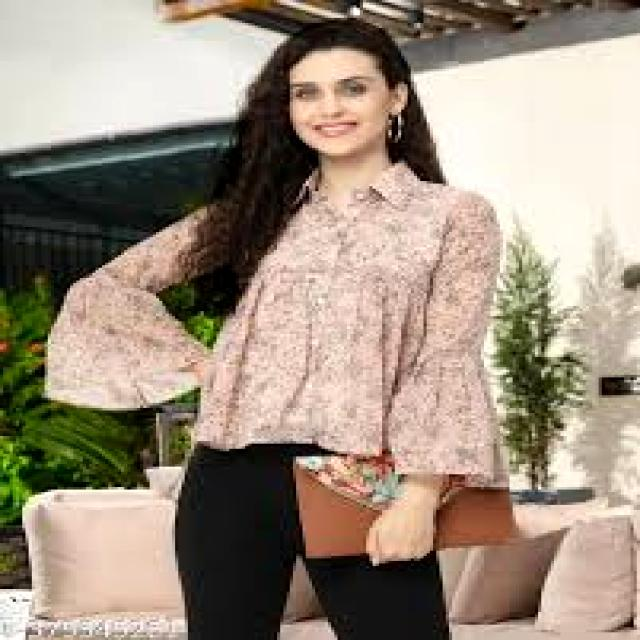face: (290, 49, 407, 158)
lower-wear: (176, 444, 448, 639)
top-wear: (45, 161, 509, 487)
